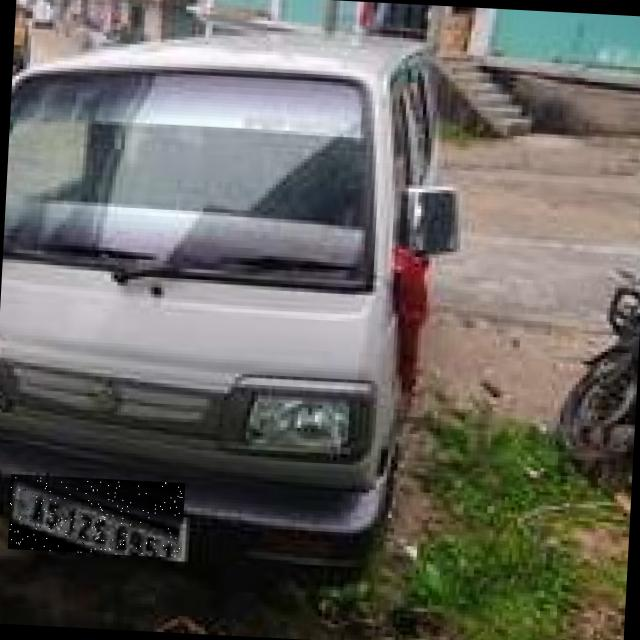Plate: (9, 475, 187, 559)
